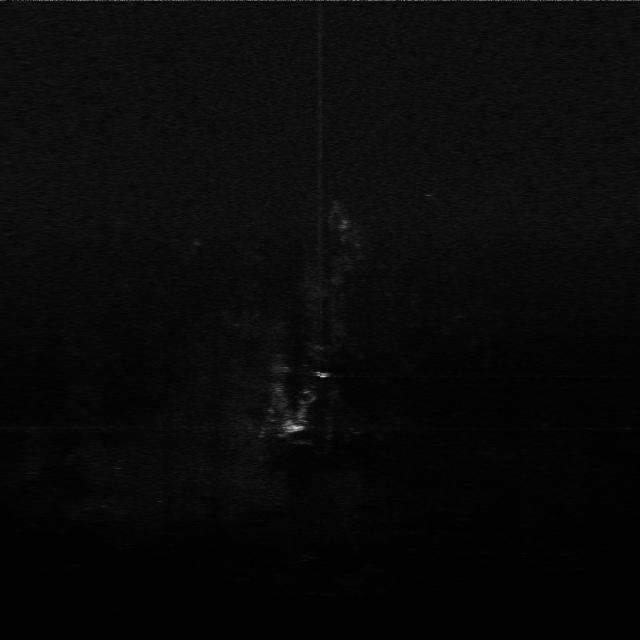rov: (281, 418, 308, 436)
